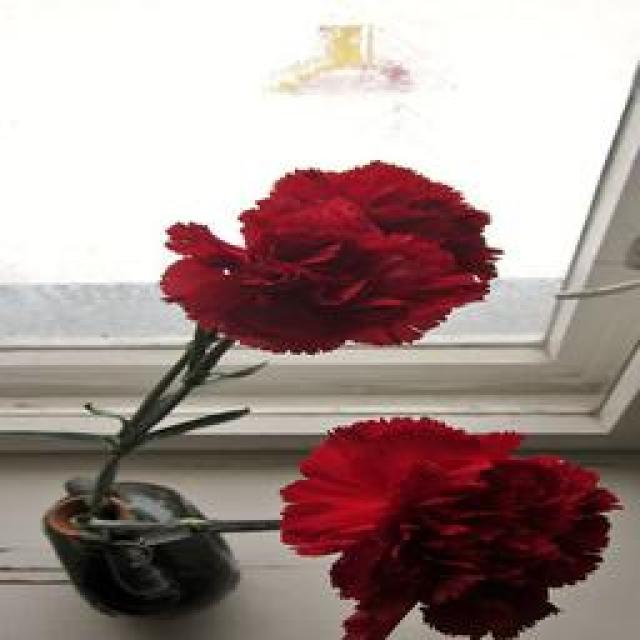carnation: (150, 146, 502, 372)
